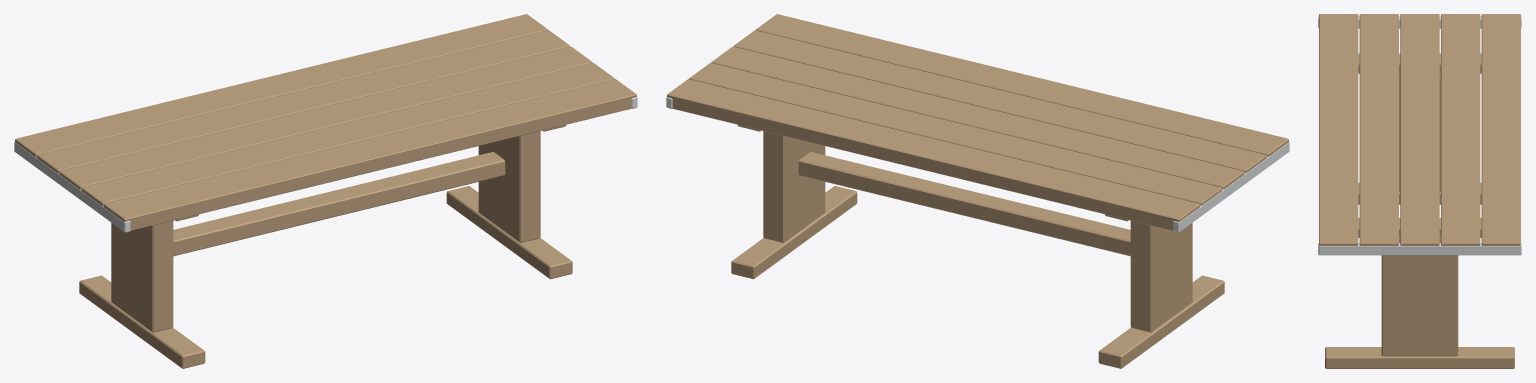
The model's file is bakery-and-cafe-communal-table-8fb52279__22203.glb.
The picture shows the model from 3 angles, left to right: view 1: azimuth 30°, elevation 25°; view 2: azimuth 150°, elevation 25°; view 3: azimuth 270°, elevation 25°; orthographic projection. The views are drawn at different scales.
Visible parts, largest first — view 1: communal-table; view 2: communal-table; view 3: communal-table.
Boxes of the visible parts, x1,y1,x2,y2 form: communal-table: [14, 14, 637, 368]; communal-table: [666, 14, 1289, 368]; communal-table: [1318, 14, 1521, 368].
Size of the model in its own units: 2.4 by 0.7501 by 0.9001.
